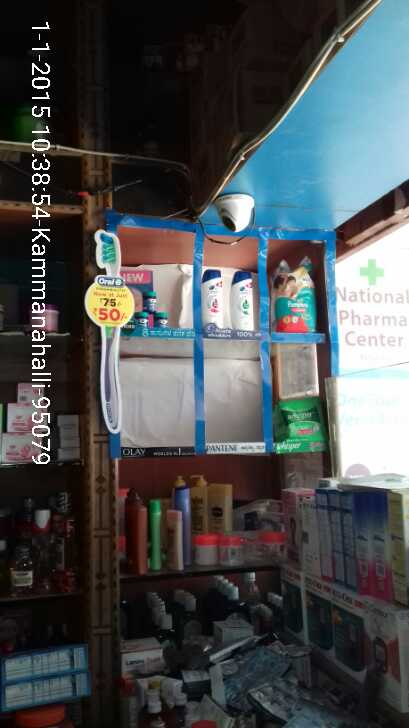beauty: (228, 271, 254, 331), (200, 268, 222, 328)
pharmacy: (271, 256, 314, 332), (277, 397, 328, 440), (154, 311, 169, 332), (143, 290, 156, 313)
